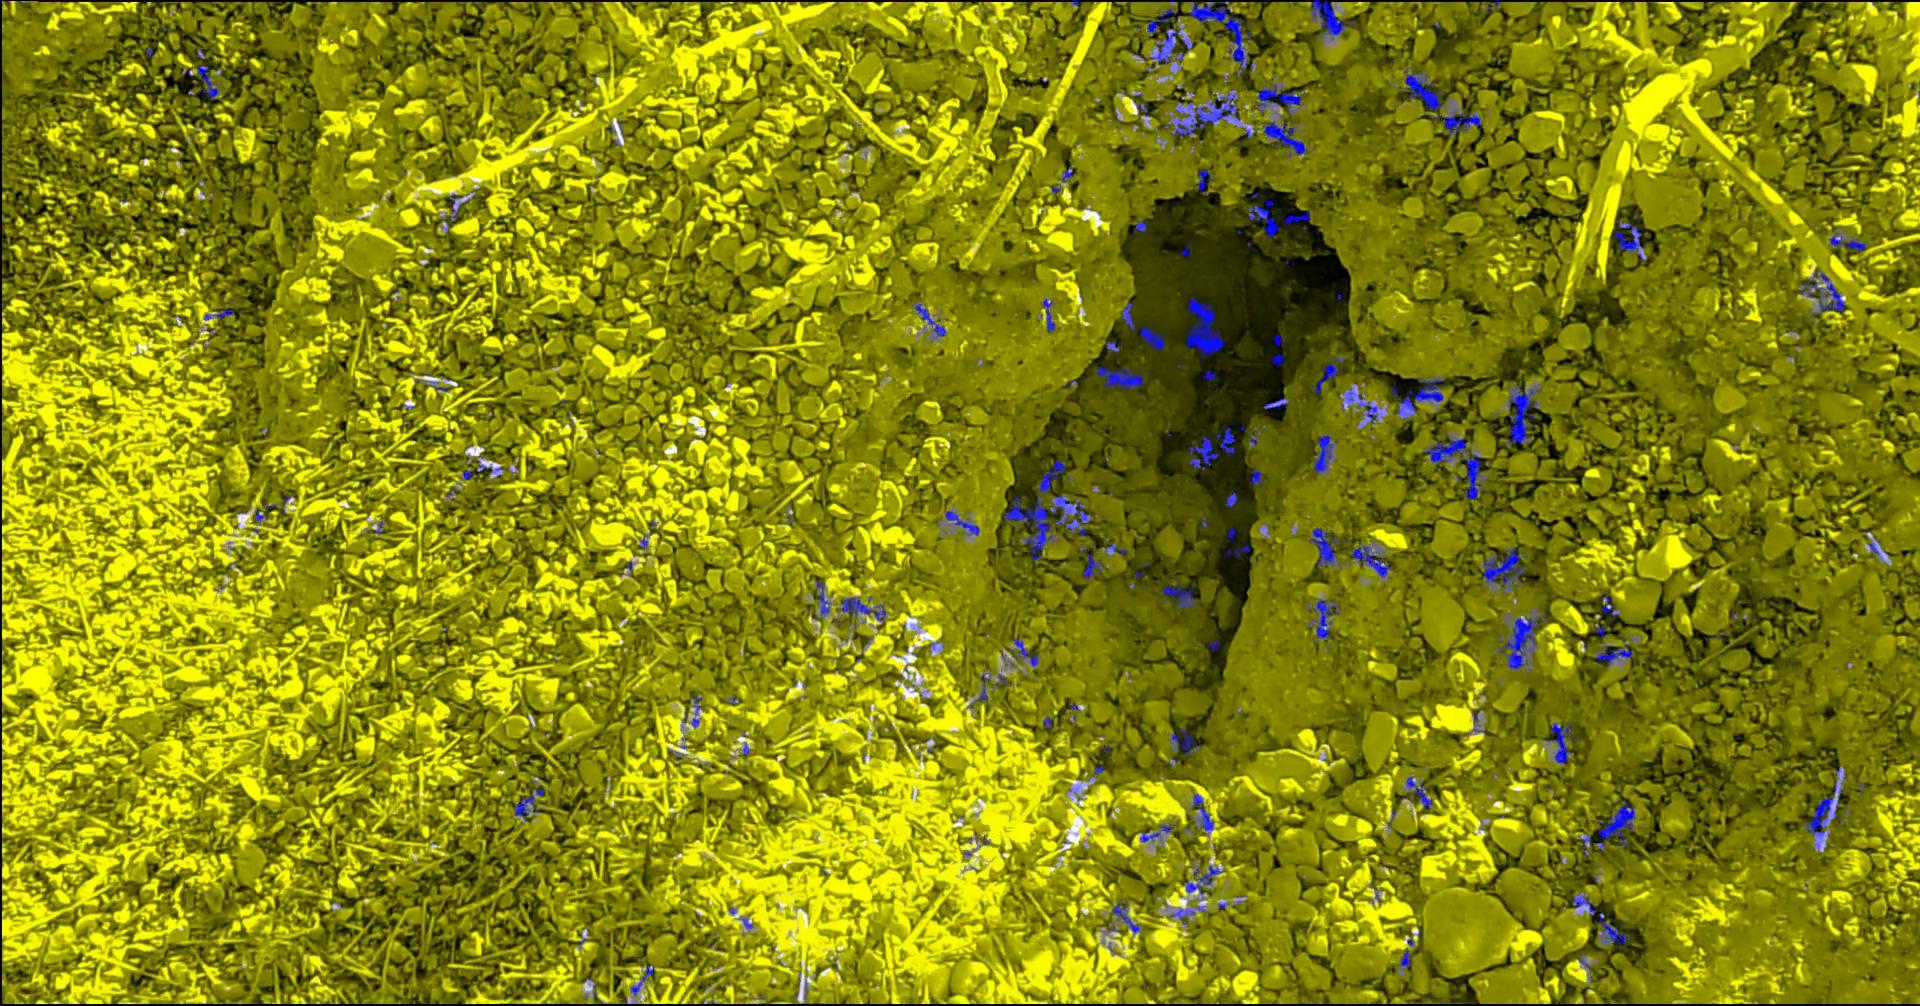ant: (1166, 89, 1241, 138), (1573, 893, 1630, 945), (1506, 384, 1542, 445), (1801, 269, 1846, 315), (1804, 782, 1843, 837), (1595, 799, 1637, 848), (1484, 546, 1528, 592), (1397, 377, 1445, 418), (1263, 116, 1308, 158), (1403, 66, 1443, 111), (1310, 0, 1357, 37), (1255, 83, 1303, 116), (1309, 598, 1342, 643), (1614, 218, 1648, 260), (1545, 721, 1578, 763), (1352, 545, 1393, 577), (1310, 527, 1342, 567), (842, 596, 888, 622), (1250, 199, 1281, 238), (1432, 111, 1482, 135), (197, 48, 220, 100), (1098, 365, 1145, 389), (1150, 27, 1181, 64), (1316, 356, 1346, 392), (516, 784, 546, 821), (1185, 865, 1224, 893), (1190, 434, 1220, 470), (916, 304, 947, 337), (1163, 582, 1200, 608), (1112, 901, 1143, 932), (1006, 638, 1040, 666), (1148, 8, 1181, 36), (1314, 434, 1338, 473), (946, 511, 982, 535), (1171, 727, 1201, 754), (1407, 776, 1434, 807), (1831, 229, 1868, 250), (1194, 793, 1215, 829), (1597, 645, 1634, 666), (1359, 392, 1383, 423), (1084, 547, 1109, 578), (632, 964, 657, 995), (813, 579, 830, 619), (1142, 822, 1175, 842), (1142, 326, 1167, 351), (263, 495, 296, 513), (1217, 426, 1237, 453), (443, 194, 462, 221), (1043, 298, 1057, 332), (1123, 301, 1137, 330), (1199, 168, 1213, 196), (1171, 908, 1196, 923), (980, 669, 992, 702), (1285, 210, 1312, 224), (204, 307, 236, 319), (1603, 596, 1620, 616), (1263, 398, 1290, 410), (1227, 544, 1251, 558), (1102, 542, 1128, 554), (1134, 99, 1150, 116), (1869, 537, 1882, 556), (1250, 469, 1265, 484), (1401, 948, 1412, 967), (1062, 166, 1076, 182), (1225, 492, 1239, 507), (1272, 353, 1286, 367), (1209, 639, 1222, 653), (1107, 340, 1123, 352), (1203, 370, 1218, 381), (1227, 527, 1238, 542), (1137, 220, 1148, 231)
